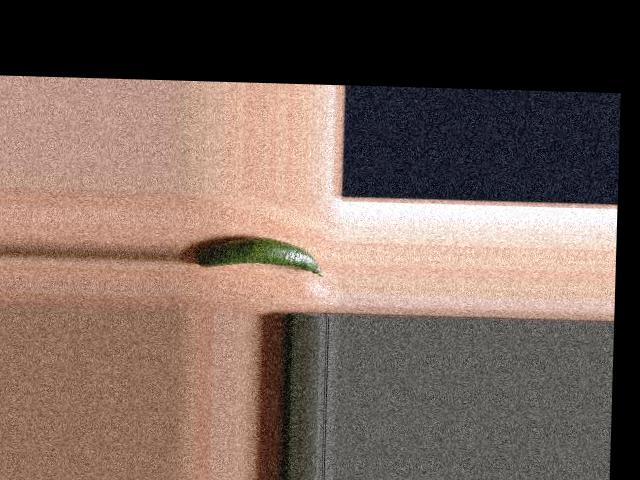cucumber: (192, 234, 324, 276)
